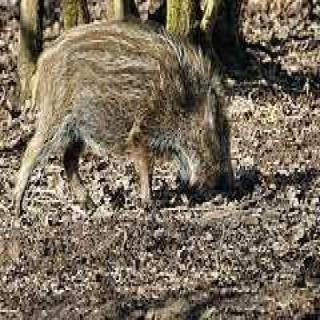Pig: (19, 8, 268, 244)
